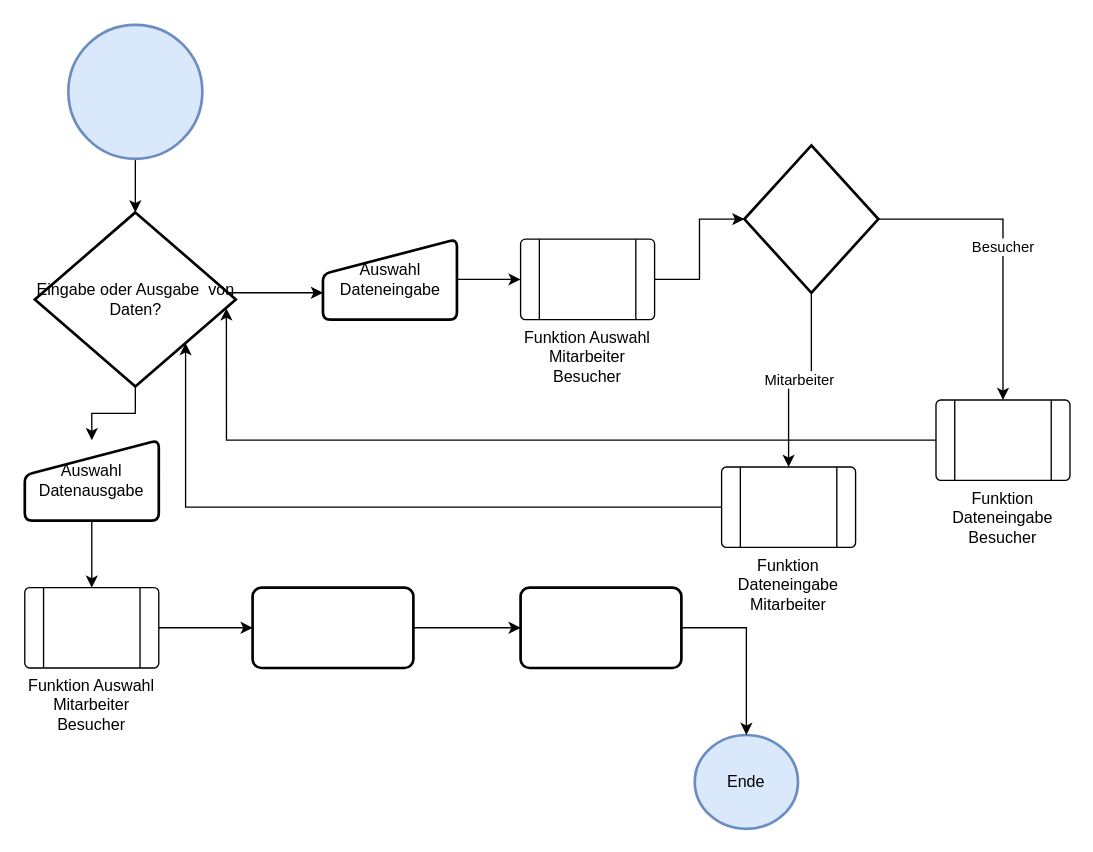
The diagram is 1093 pixels wide and 852 high, and some of its shapes have lost their labels. Each missing label, with the centre of its shape:
"Ausgabe der Liste" belongs at point (600, 627).
"Auswahl Mitarbeiter oder Besucher?" belongs at point (810, 218).
"Start" belongs at point (134, 91).
"Trennen des Strings für die Ausgabe" belongs at point (332, 627).
